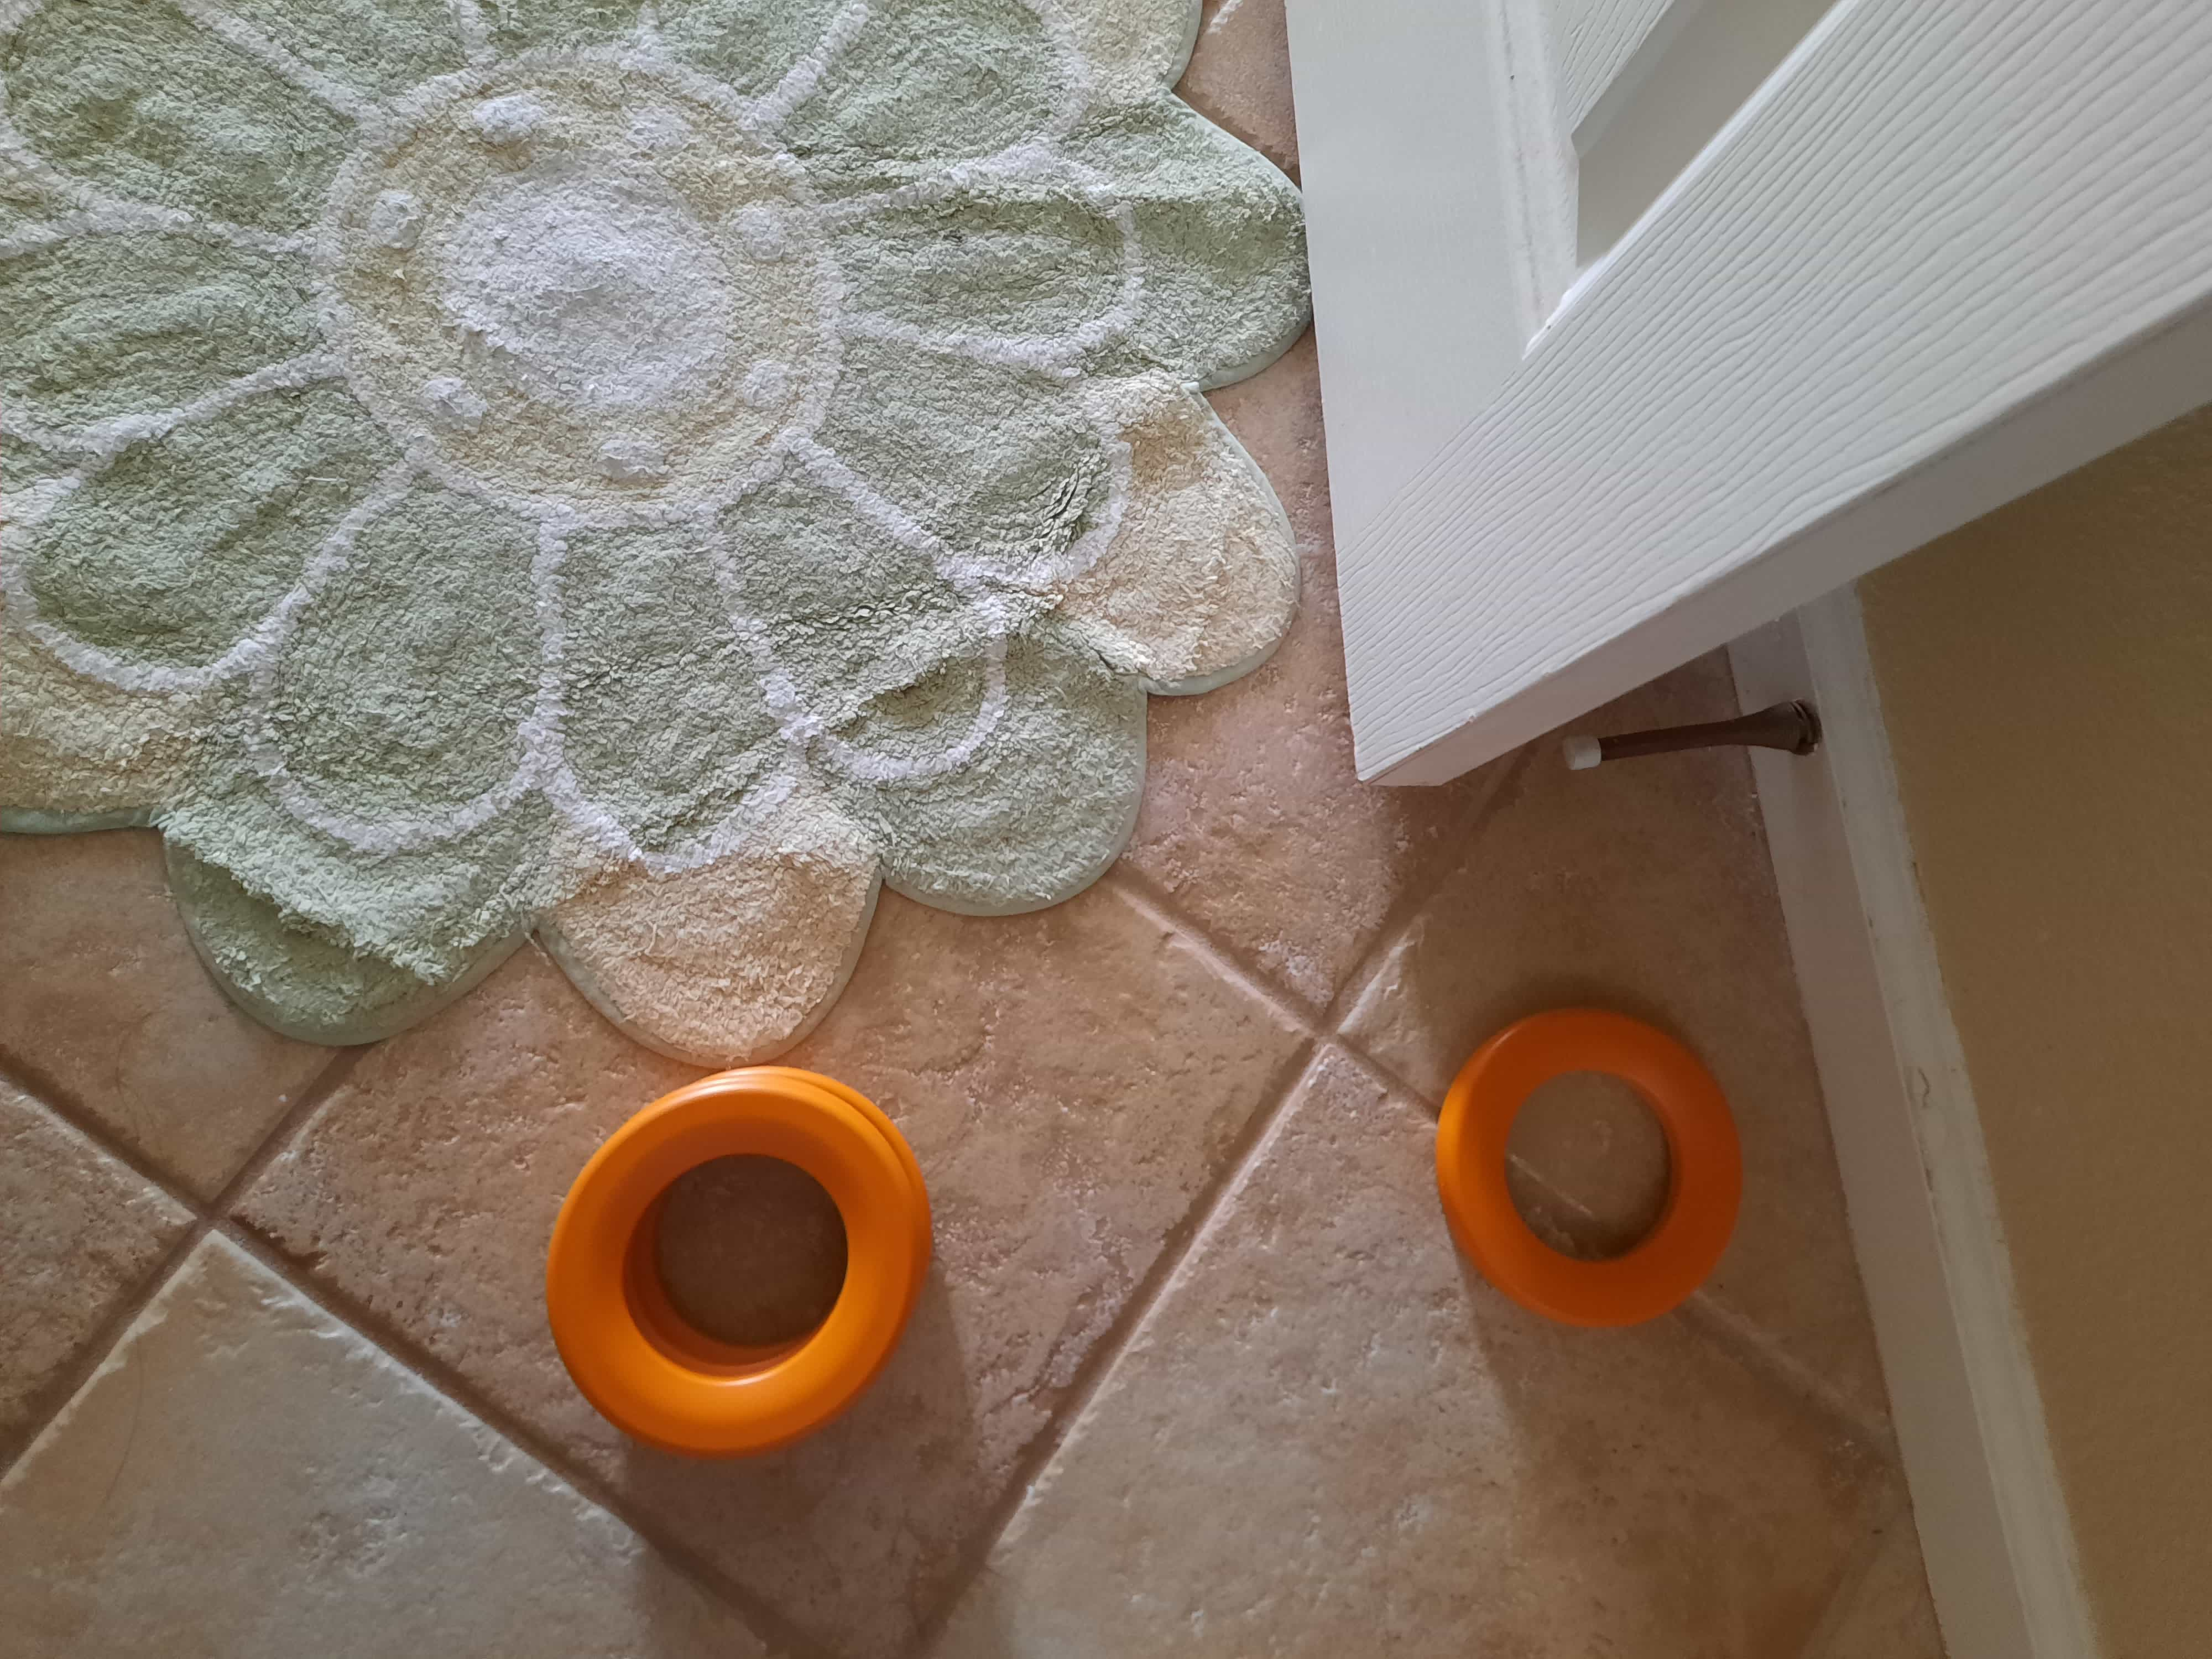FourStack: (549, 1075, 925, 1450)
OneStack: (1446, 999, 1742, 1324)
